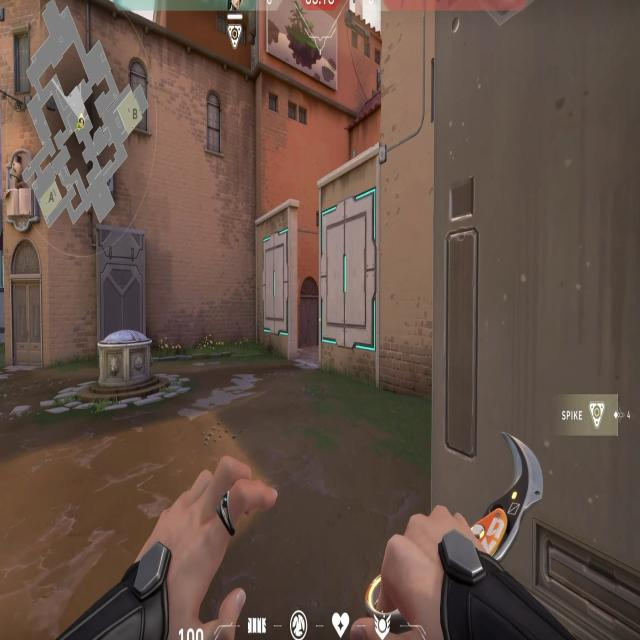Mid_Wall: (321, 185, 376, 355), (263, 228, 290, 338)
